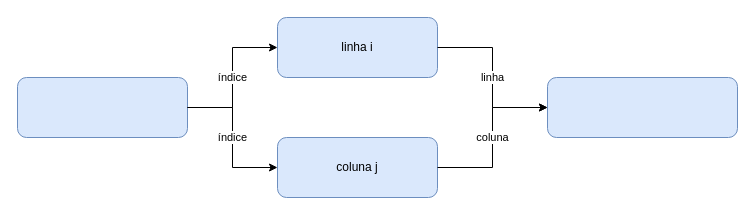
Image size: 755x215. Some labels were removed from this diagram. The shapes that lost their labels are listed below. From the top down, each one's box as (x1, y1, x2, y2) in pixels, then its label:
(16, 76, 188, 138): int[][] matriz
(546, 76, 738, 138): matriz[i][j]
